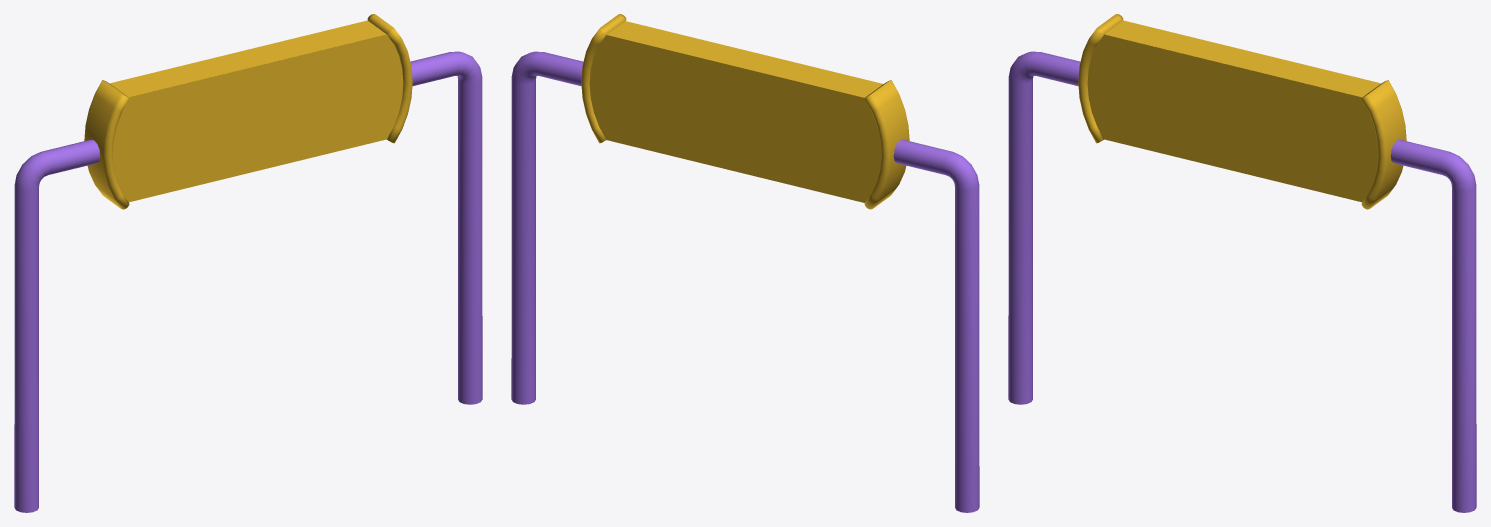
Rendered from 1sehirgiris.fbx.
The picture shows the model from 3 angles, left to right: view 1: azimuth 30°, elevation 25°; view 2: azimuth 150°, elevation 25°; view 3: azimuth 330°, elevation 25°; orthographic projection.
Parts seen in each view (by area): view 1: Circle.001, Cube; view 2: Circle.001, Cube; view 3: Circle.001, Cube.
Boxes of the visible parts, left/top/right/bottom form: Circle.001: left=84, top=14, right=412, bottom=209; Cube: left=14, top=51, right=482, bottom=512; Circle.001: left=581, top=14, right=909, bottom=209; Cube: left=511, top=51, right=979, bottom=512; Circle.001: left=1078, top=14, right=1406, bottom=209; Cube: left=1008, top=51, right=1476, bottom=512.
Size of the model in its own units: 131 by 108 by 11.38.
